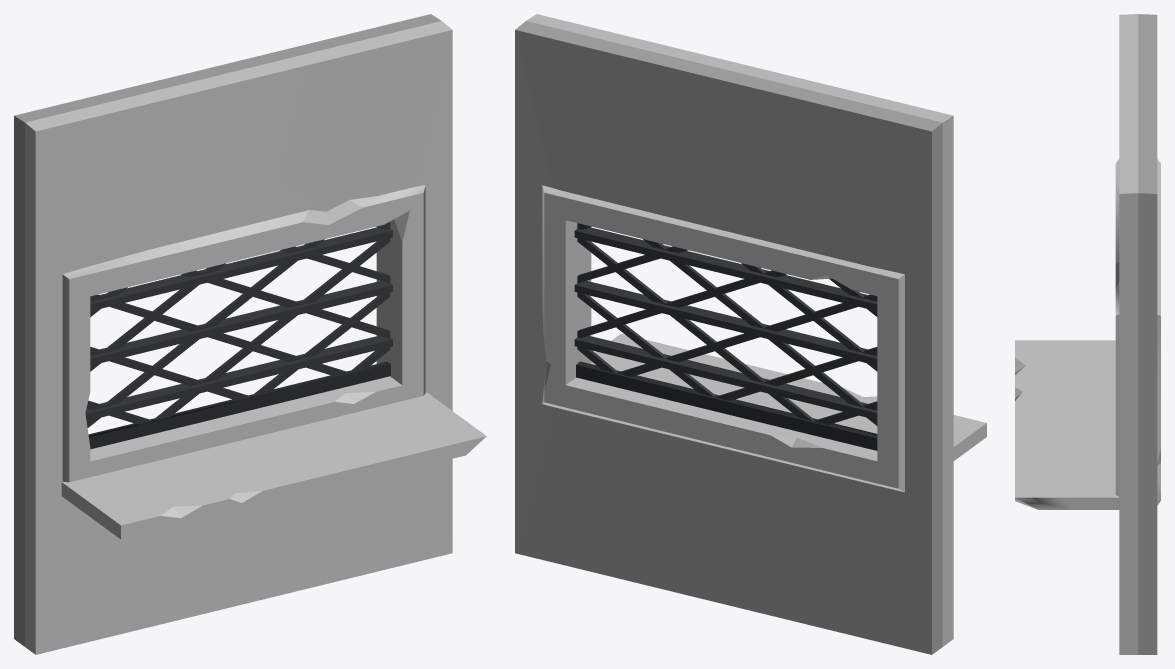
File: SM_Bld_Wall_Serving_02.fbx
The picture shows the model from 3 angles, left to right: view 1: azimuth 30°, elevation 25°; view 2: azimuth 150°, elevation 25°; view 3: azimuth 270°, elevation 25°; orthographic projection. The views are drawn at different scales.
Parts seen in each view (by area): view 1: SM_Bld_Wall_Serving_02; view 2: SM_Bld_Wall_Serving_02; view 3: SM_Bld_Wall_Serving_02.
Part boxes in pixels (bbox=[...]): SM_Bld_Wall_Serving_02: bbox=[14, 14, 486, 654]; SM_Bld_Wall_Serving_02: bbox=[515, 14, 986, 654]; SM_Bld_Wall_Serving_02: bbox=[1015, 14, 1160, 654].
Bounding box in the file's own units: 250 × 301 × 86.08.
